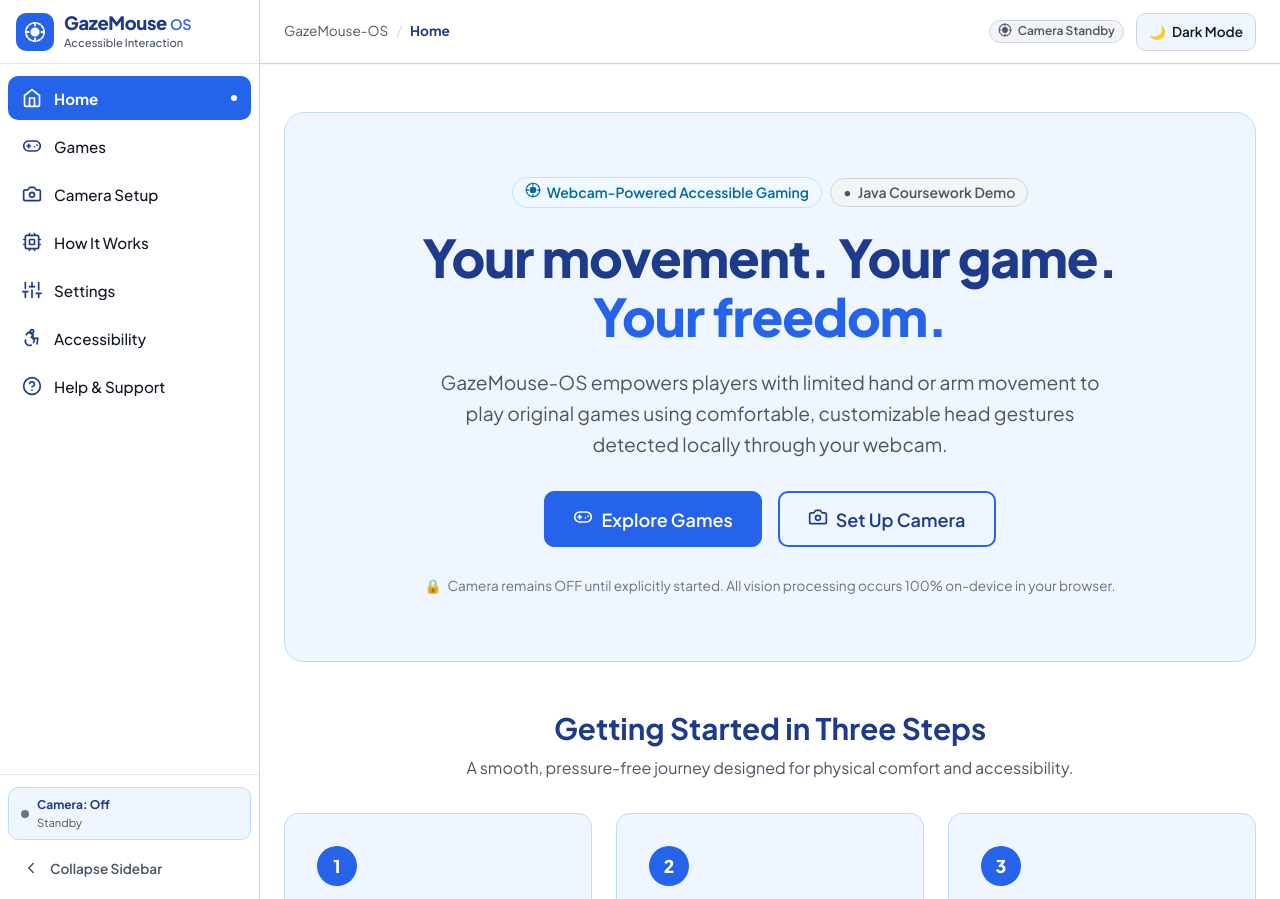
Test case: Navigation and Page Hierarchy › navigates to Games page when clicking Games navigation item
Click the button "Games".
click(130, 146)  # box 8,124 -> 251,168
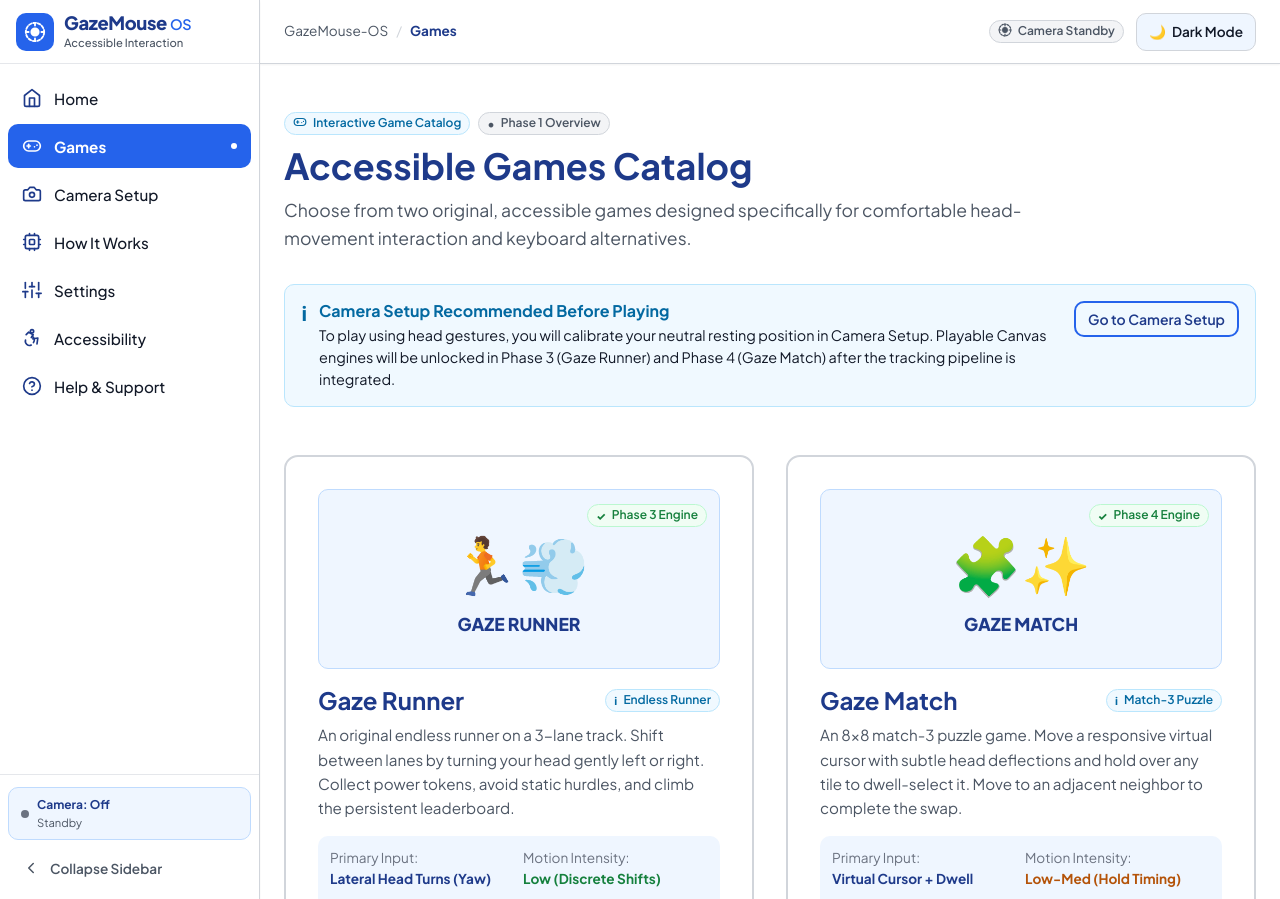
Result: the heading "Accessible Games Catalog" is shown at 284,143 -> 752,188
Result: the heading "Gaze Runner" is shown at 318,685 -> 464,715
Result: the heading "Gaze Match" is shown at 820,685 -> 958,715
